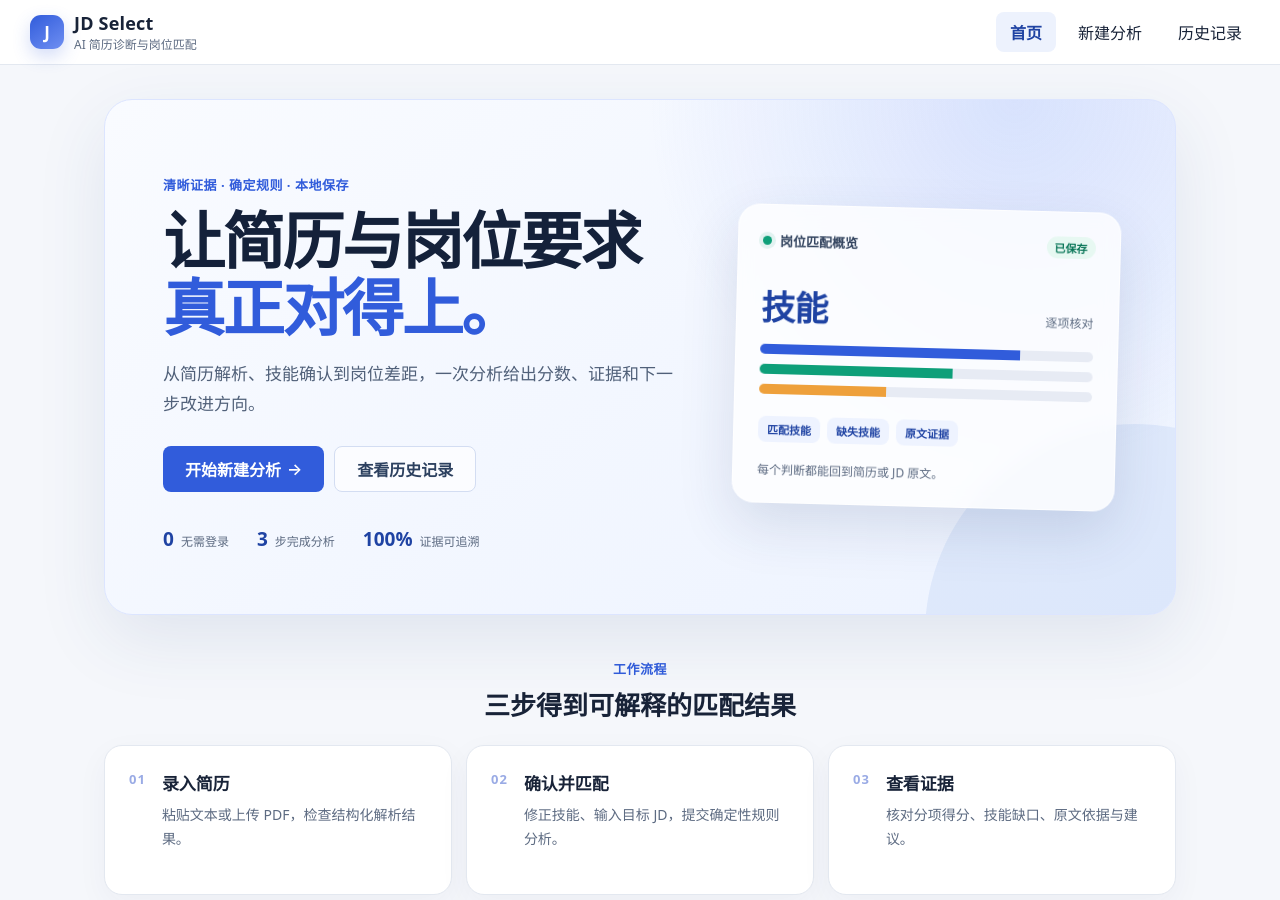
Test case: App routing and states › renders empty history
The image size is (1280, 900).
Click the button "历史记录" at (1210, 32), box [1164,12,1256,52]
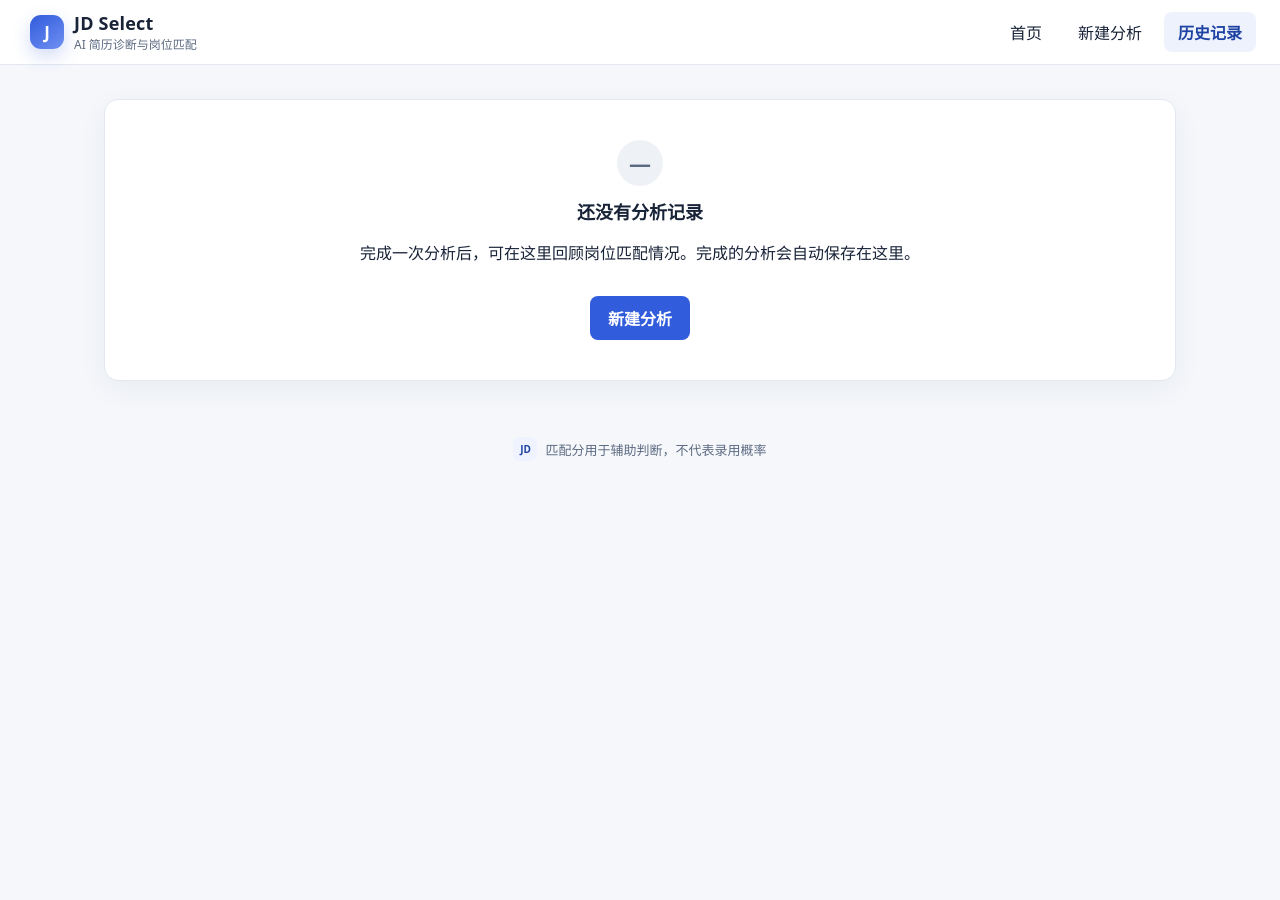
Check: the heading "还没有分析记录" is shown, box [577,200,703,224]
